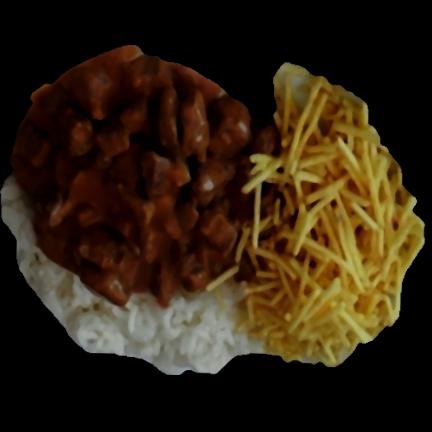meat: (11, 45, 278, 305)
potato: (239, 62, 424, 366)
rice: (0, 175, 262, 374)
